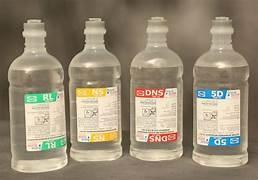Iv_Bottle: (8, 19, 66, 172), (192, 17, 248, 166), (130, 17, 182, 160), (69, 18, 121, 160)
